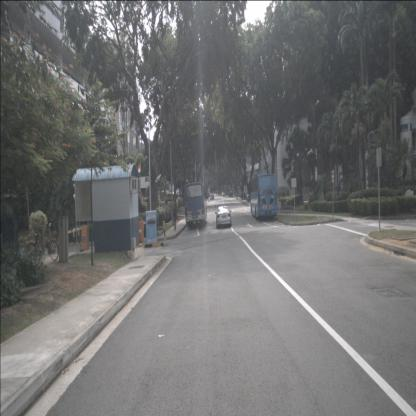human-pedestrian-adult: (173, 207, 177, 231), (350, 188, 354, 206), (247, 193, 249, 204), (240, 193, 242, 201), (244, 192, 245, 200)
vehicle-bicycle: (25, 222, 58, 262)
vehicle-bus-rigid: (250, 173, 278, 220), (184, 182, 207, 228), (228, 188, 233, 197)
vehicle-car: (216, 206, 231, 229), (210, 193, 214, 200)
